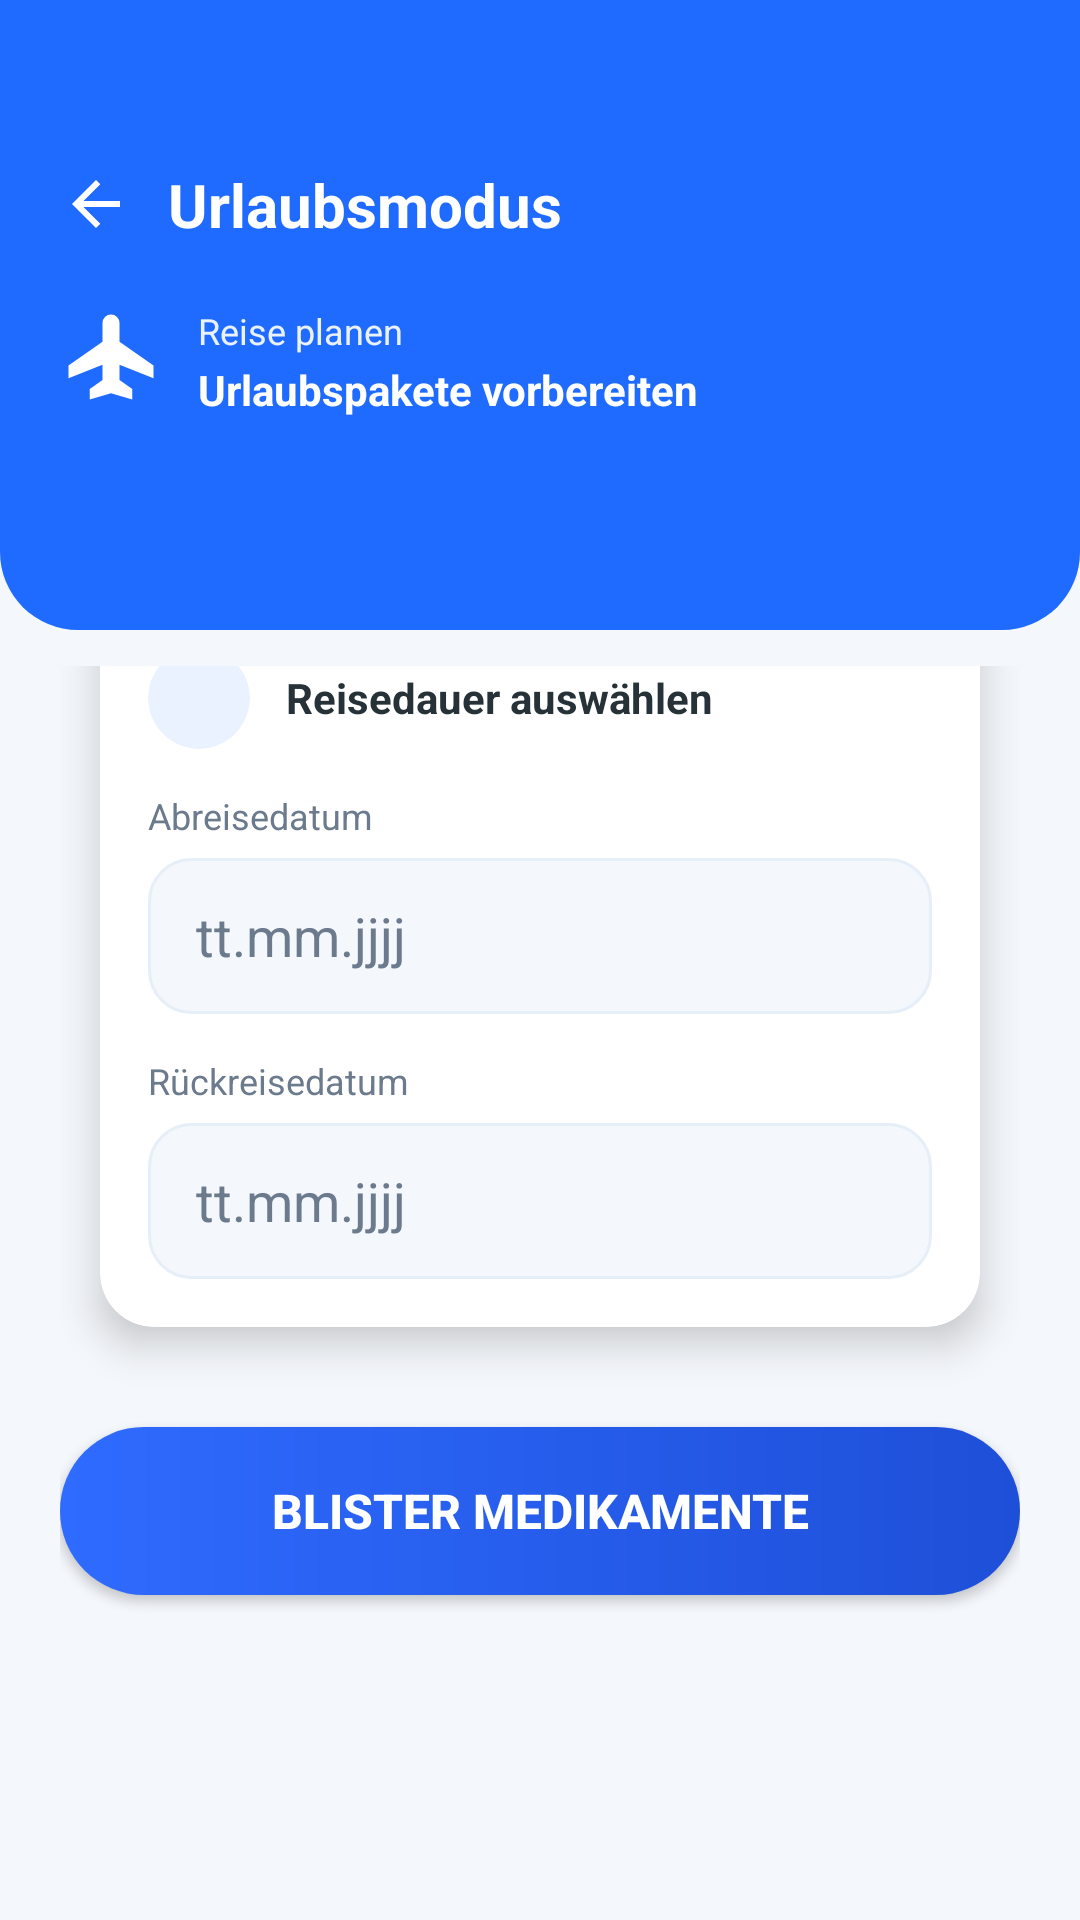

Icon bounding boxes for this 1080 × 1920 phone screenshot, format box=[x1, y1, x2, y2]:
back: box=[72, 180, 120, 228]
